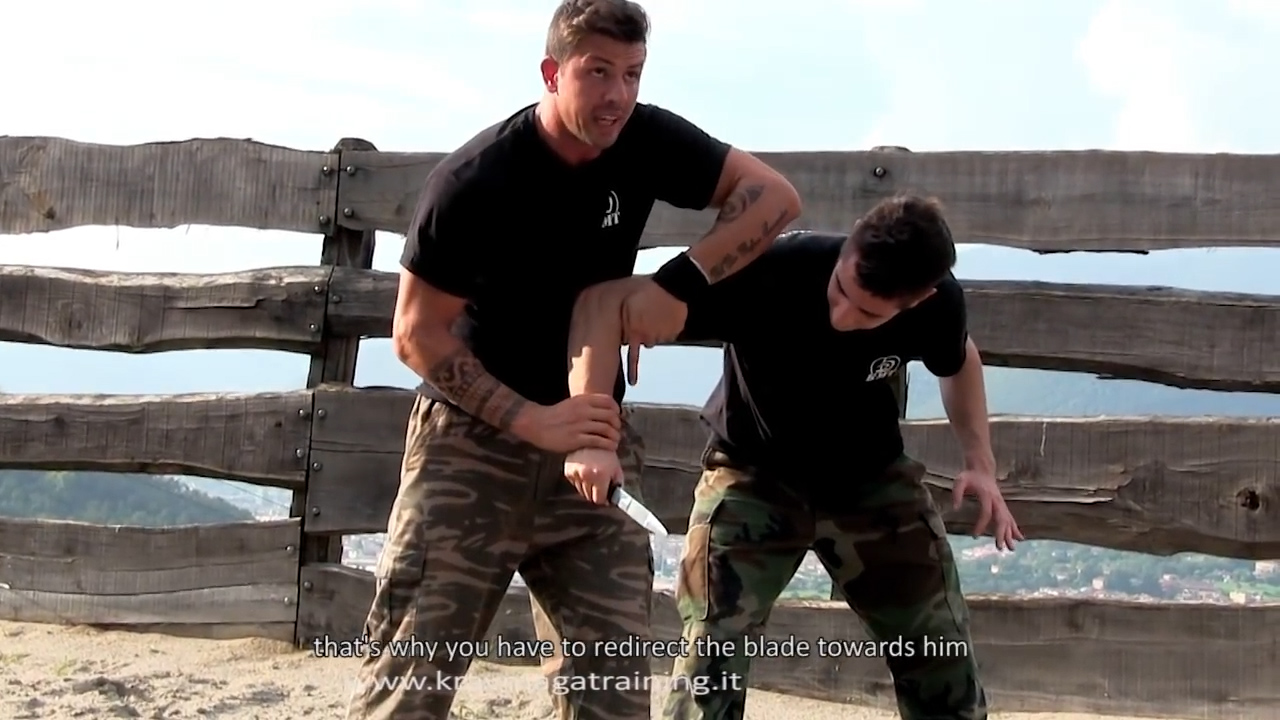knife: (562, 454, 677, 545)
